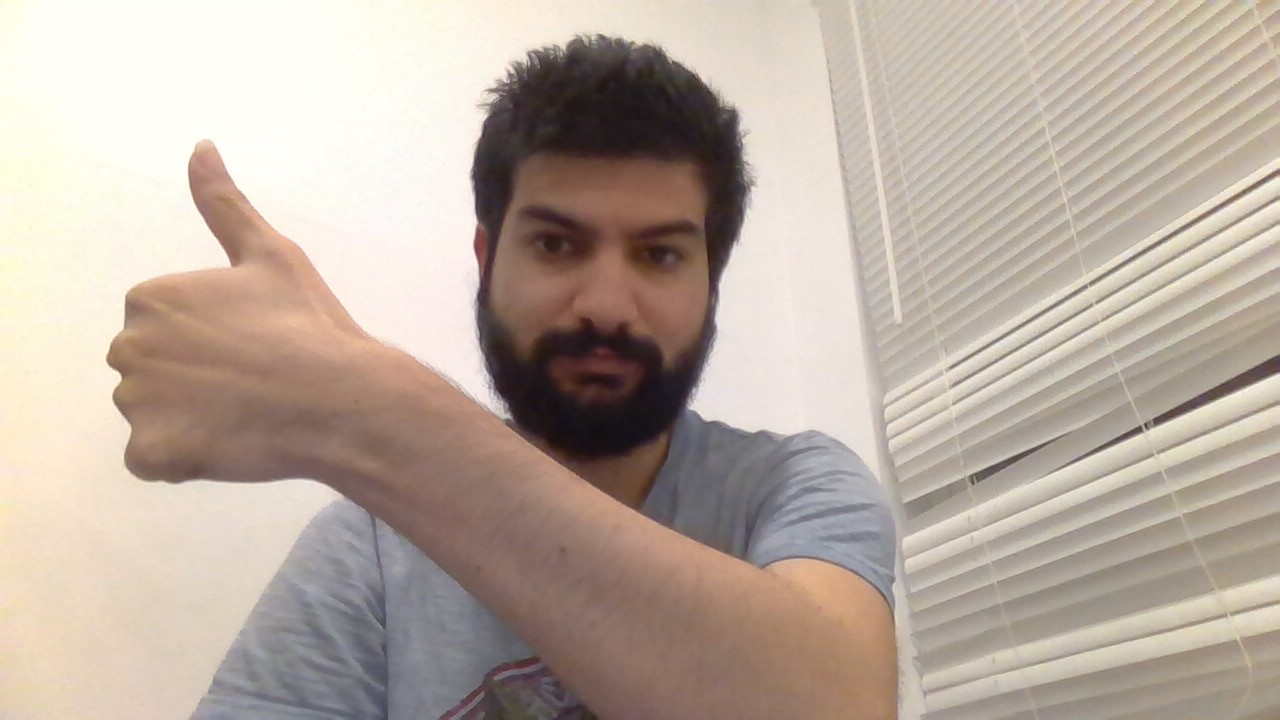up: (90, 128, 327, 493)
